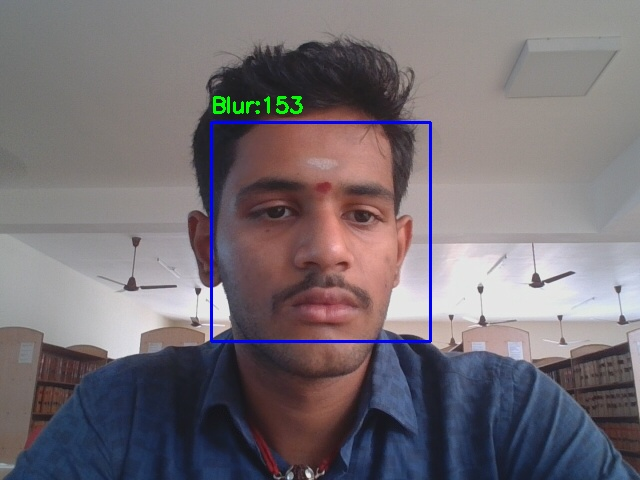real: (211, 122, 430, 341)
